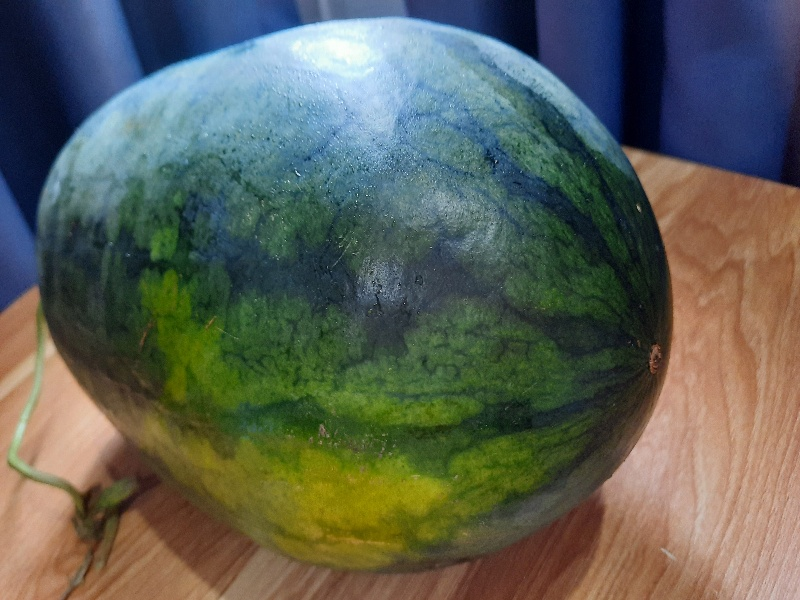fruit: (28, 15, 679, 584)
